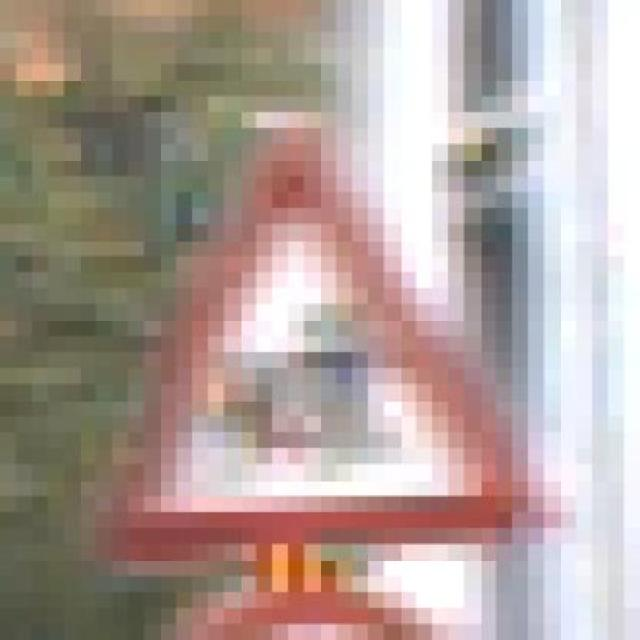Beware of children: (83, 99, 563, 564)
